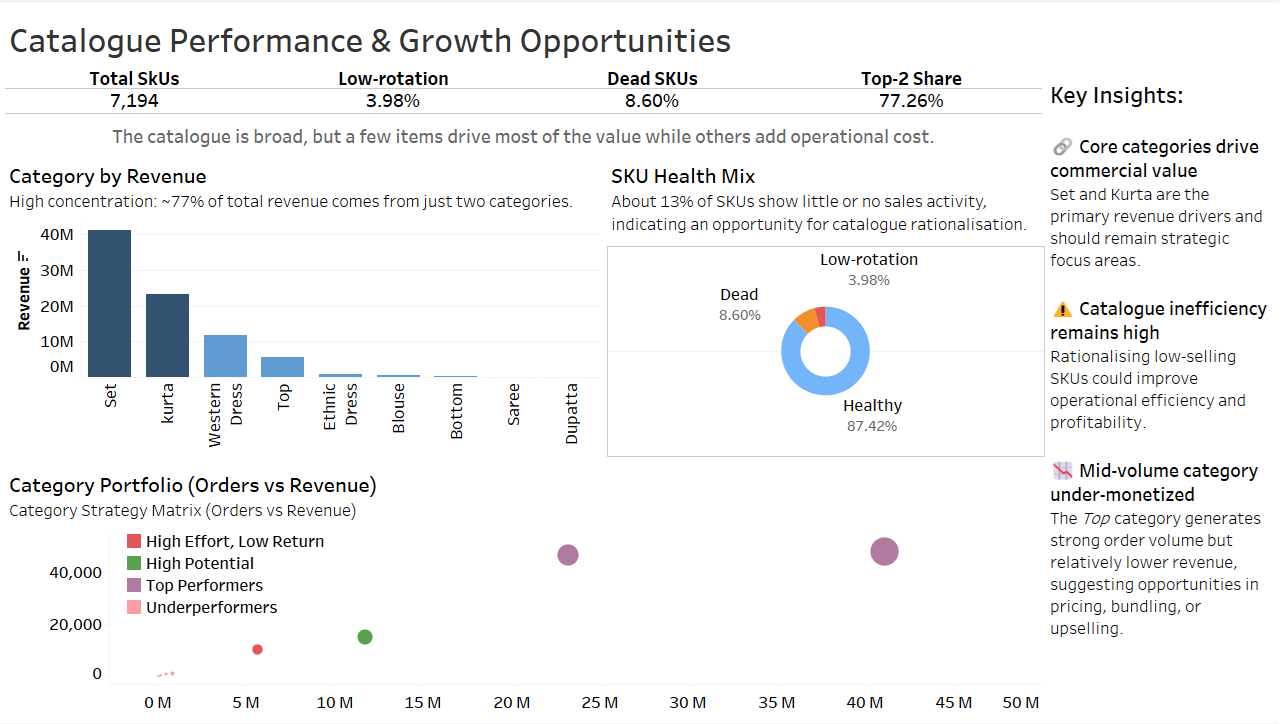

The page's visual inventory and layout, read from the dashboard file:
{"tool":"tableau","page":{"name":"Catalogue Performance & Growth Opportunities","canvas":[1280,720],"ordinal":1},"visuals":[{"type":"title","box":[5,10,1037,52]},{"type":"text","box":[1046,10,225,708]},{"type":"worksheet","title":"KPIs-2","mark":"Automatic","box":[5,65,1037,48]},{"type":"text","box":[5,115,1037,36]},{"type":"worksheet","title":"Category by Revenue","mark":"Automatic","rows":["amount"],"cols":["category"],"box":[5,154,595,300]},{"type":"worksheet","title":"SKU Health Mix","mark":"Circle","rows":["Calculation_1233141887611469830","Calculation_1233141887611469830"],"box":[607,154,438,300]},{"type":"worksheet","title":"Category Portfolio (Orders vs Revenue)","mark":"Circle","rows":["order_id"],"cols":["amount"],"box":[5,463,1037,248]},{"type":"legend","title":"Category Portfolio (Orders vs Revenue)","param":"[federated.0vvw2uh1ekou1f1g7pccm0pomwk7].[usr:Calculation_1233141888065007638:nk","box":[123,527,258,91]}]}

Visuals, with their boxes in screenshot pixels (x1, y1, x2, y2), scaled from the page's 1280x720 canvas onto the 1283x724 screenshot:
title: Rect(5, 10, 1044, 62)
text: Rect(1048, 10, 1274, 722)
"KPIs-2" worksheet: Rect(5, 65, 1044, 114)
text: Rect(5, 116, 1044, 152)
"Category by Revenue" worksheet: Rect(5, 155, 601, 457)
"SKU Health Mix" worksheet (Circle marks): Rect(608, 155, 1047, 457)
"Category Portfolio (Orders vs Revenue)" worksheet (Circle marks): Rect(5, 466, 1044, 715)
"Category Portfolio (Orders vs Revenue)" legend: Rect(123, 530, 382, 621)
